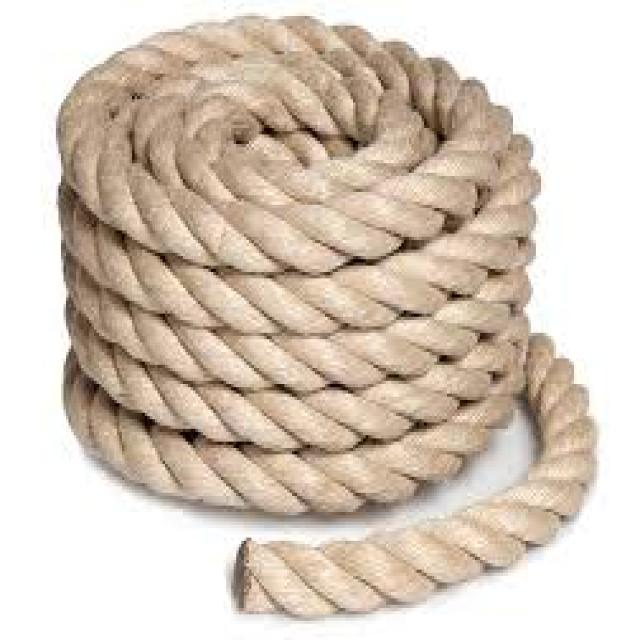rope: (58, 16, 594, 614)
